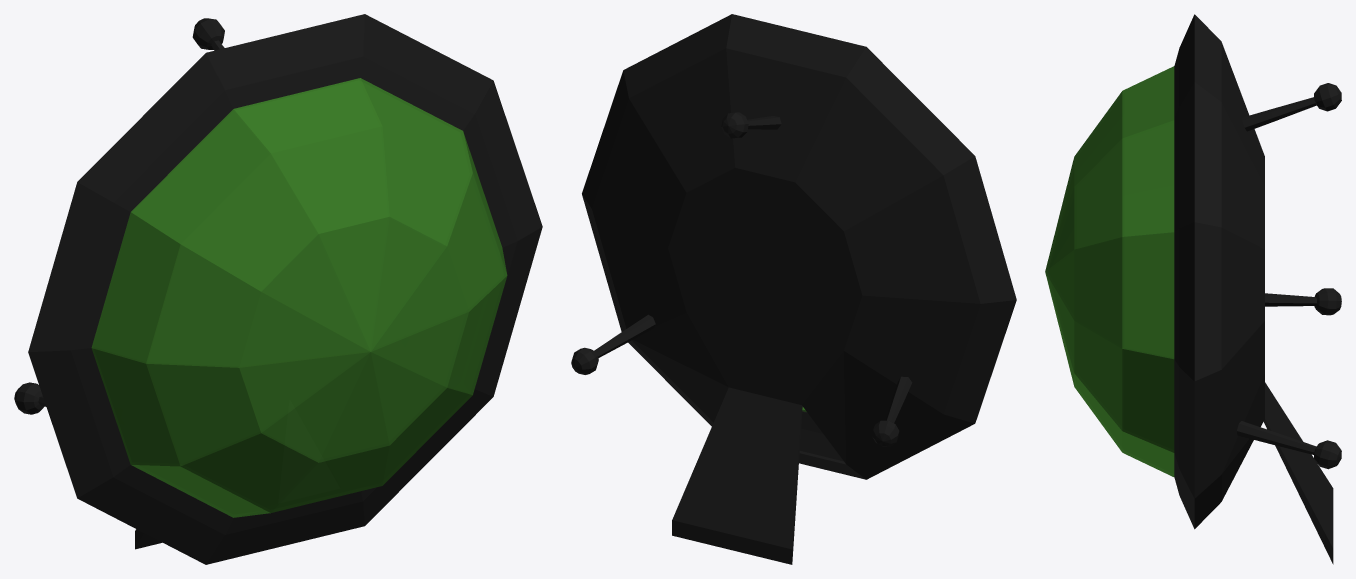
The model's file is AlienShipOpen.FBX.
3 renders of one model, left to right at view 1: azimuth 30°, elevation 25°; view 2: azimuth 150°, elevation 25°; view 3: azimuth 270°, elevation 25°, orthographic. The views are drawn at different scales.
Parts seen in each view (by area): view 1: AlienShipOpen; view 2: AlienShipOpen; view 3: AlienShipOpen.
Part boxes in pixels (<box>): AlienShipOpen: <box>14,14,542,564</box>; AlienShipOpen: <box>571,14,1016,564</box>; AlienShipOpen: <box>1045,14,1341,564</box>.
Size of the model in its own units: 8.95 by 9.26 by 5.11.
